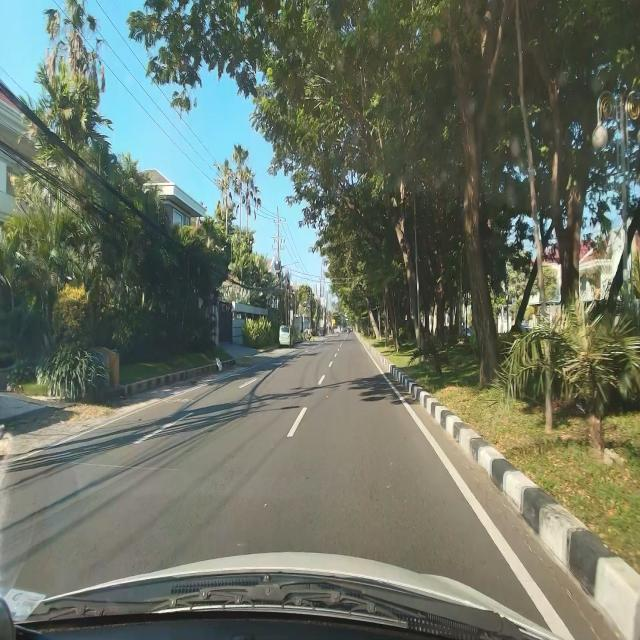car: (278, 326, 294, 348)
